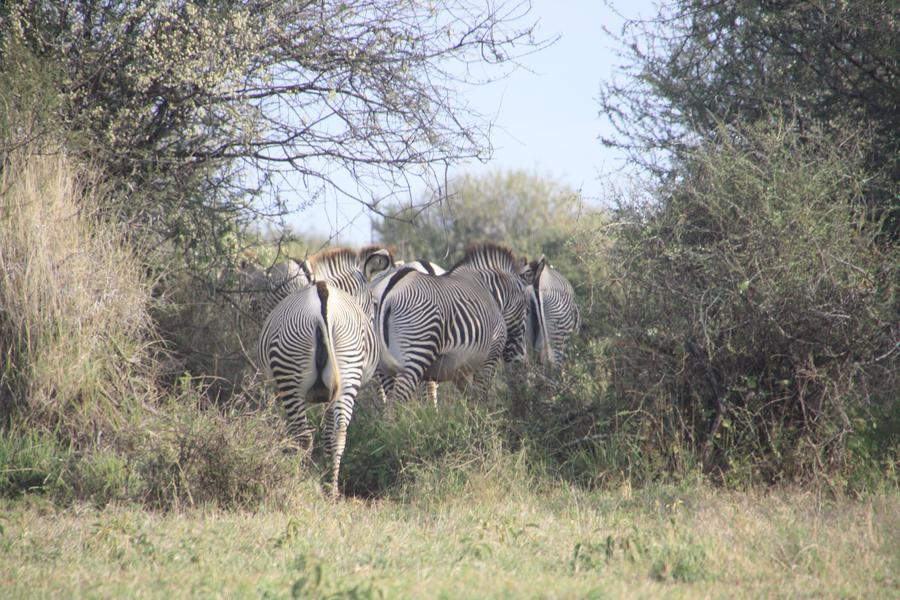zebra_grevys: (381, 267, 500, 359)
